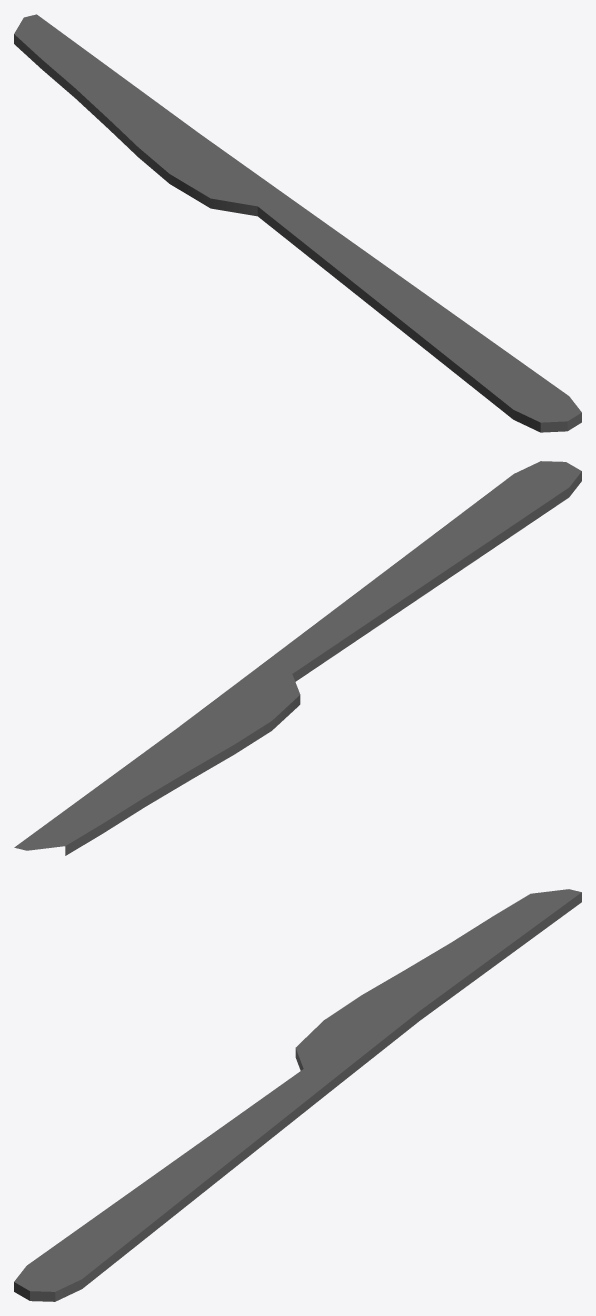
The model's file is Knife.glb.
3 views of the same model, one above another, from view 1: azimuth 30°, elevation 25°; view 2: azimuth 150°, elevation 25°; view 3: azimuth 330°, elevation 25° (orthographic).
Visible parts, largest first — view 1: Knife; view 2: Knife; view 3: Knife.
Boxes of the visible parts, bbox=[...] form: Knife: bbox=[14, 14, 581, 432]; Knife: bbox=[14, 461, 581, 855]; Knife: bbox=[14, 889, 581, 1301].
Bounding box in the file's own units: 0.017 × 0.00347 × 0.205.
1 material, 1 textured.
